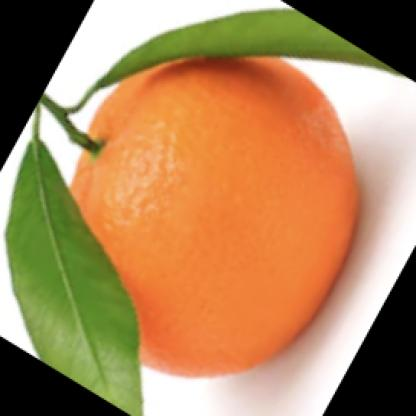fresh: (51, 44, 359, 381)
